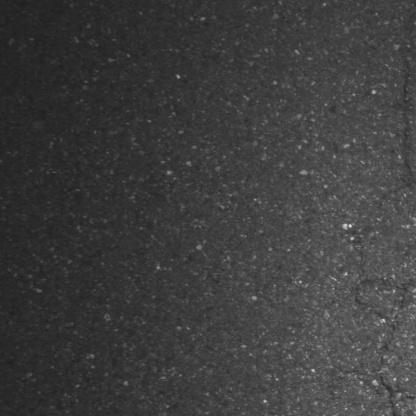Cracks: (370, 283, 413, 416), (397, 48, 416, 230)
